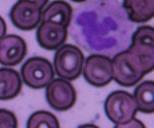N: (67, 0, 134, 55)
